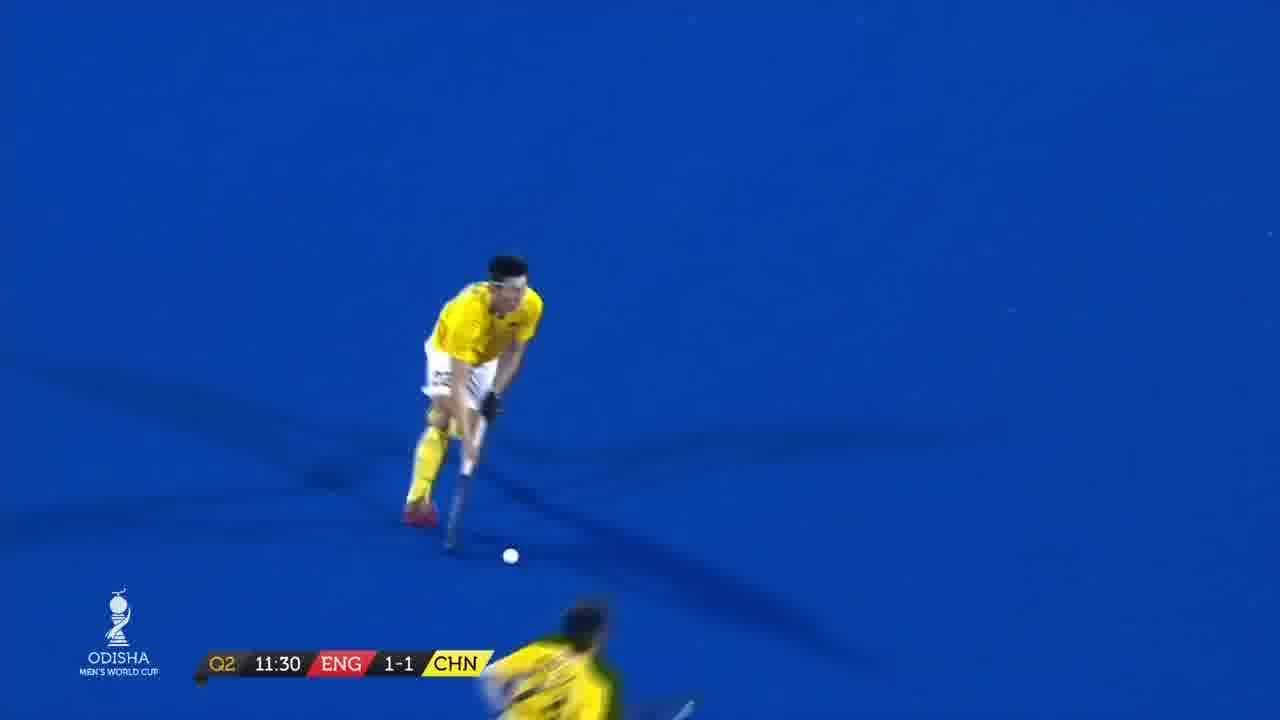ball: (492, 544, 530, 574)
